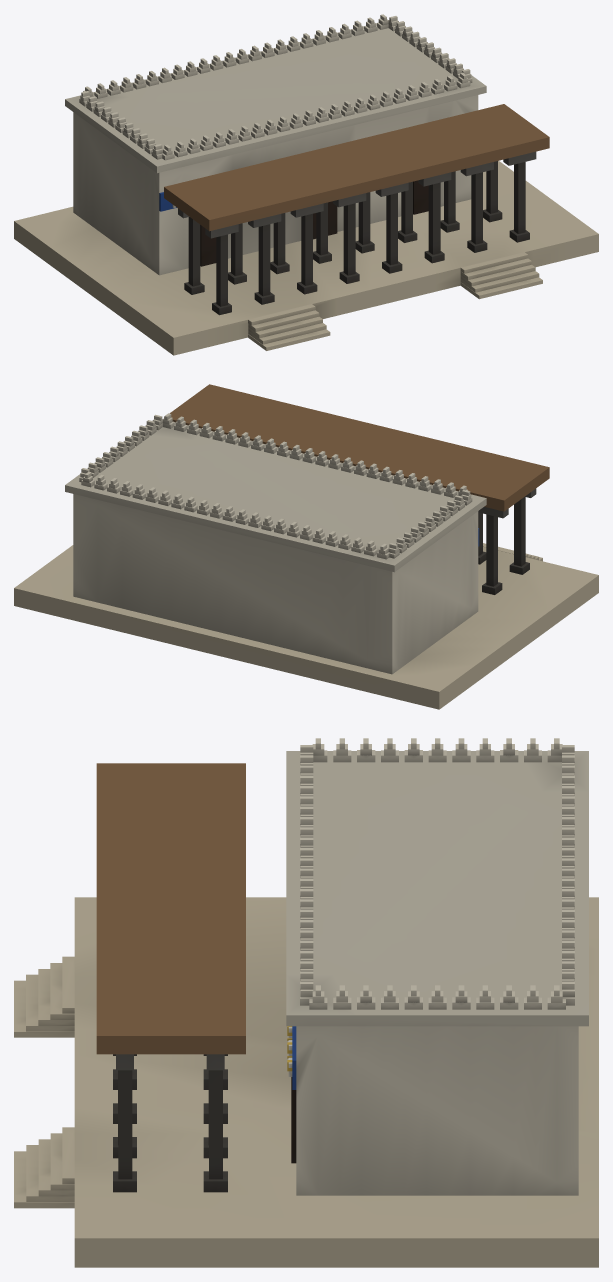
File: persian-pavilion.glb
3 views of the same model, one above another, from view 1: azimuth 30°, elevation 25°; view 2: azimuth 150°, elevation 25°; view 3: azimuth 270°, elevation 25° (orthographic). The views are drawn at different scales.
Visible parts, largest first — view 1: p1_hall and portico, p0_terrace, p2_crenellations; view 2: p1_hall and portico, p0_terrace, p2_crenellations; view 3: p1_hall and portico, p0_terrace, p2_crenellations.
Part boxes in pixels (bbox=[...]): p1_hall and portico: bbox=[65, 23, 549, 315]; p0_terrace: bbox=[14, 160, 598, 355]; p2_crenellations: bbox=[79, 14, 472, 160]; p1_hall and portico: bbox=[65, 384, 549, 674]; p0_terrace: bbox=[14, 543, 598, 709]; p2_crenellations: bbox=[79, 413, 472, 559]; p1_hall and portico: bbox=[96, 751, 588, 1195]; p0_terrace: bbox=[14, 897, 598, 1267]; p2_crenellations: bbox=[300, 738, 574, 1009].
Size of the model in its own units: 40 by 12.74 by 29.
